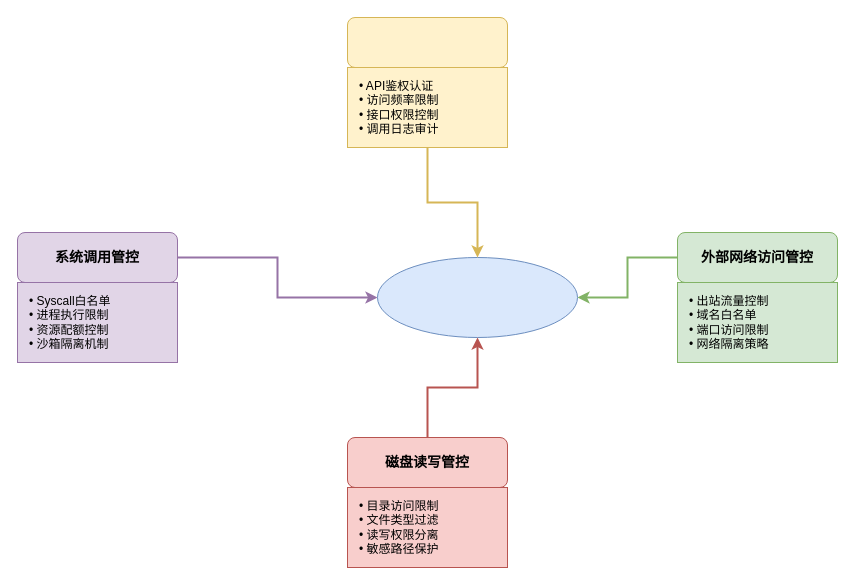
Image size: 855x585. Some labels were removed from this diagram. Here are the shapes that lost their labels. From the top down, the box of each, then its label:
(346, 16, 508, 68): 内部API访问管控
(376, 256, 578, 338): 安全管控体系
